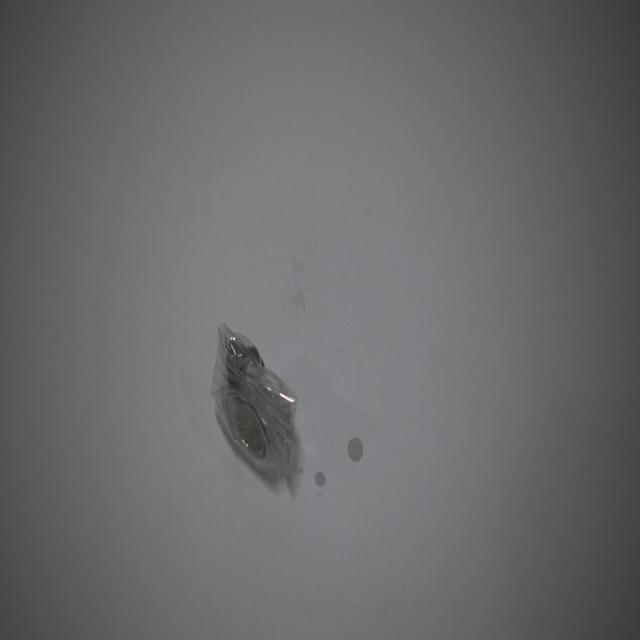bottle: (207, 315, 301, 496)
